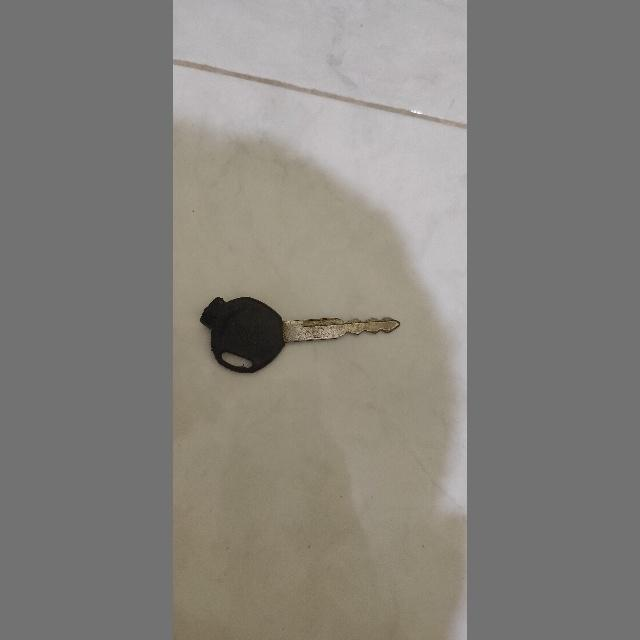Keys: (200, 280, 420, 376)
